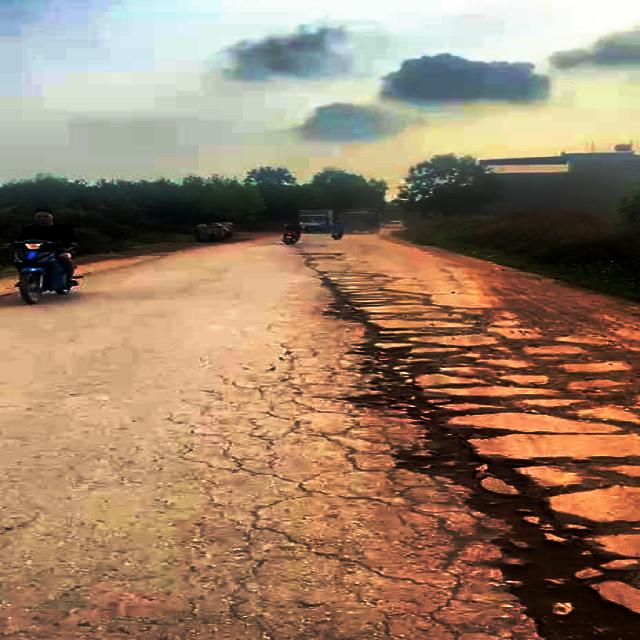pothole: (393, 441, 640, 640), (334, 340, 523, 464), (327, 296, 485, 353)
